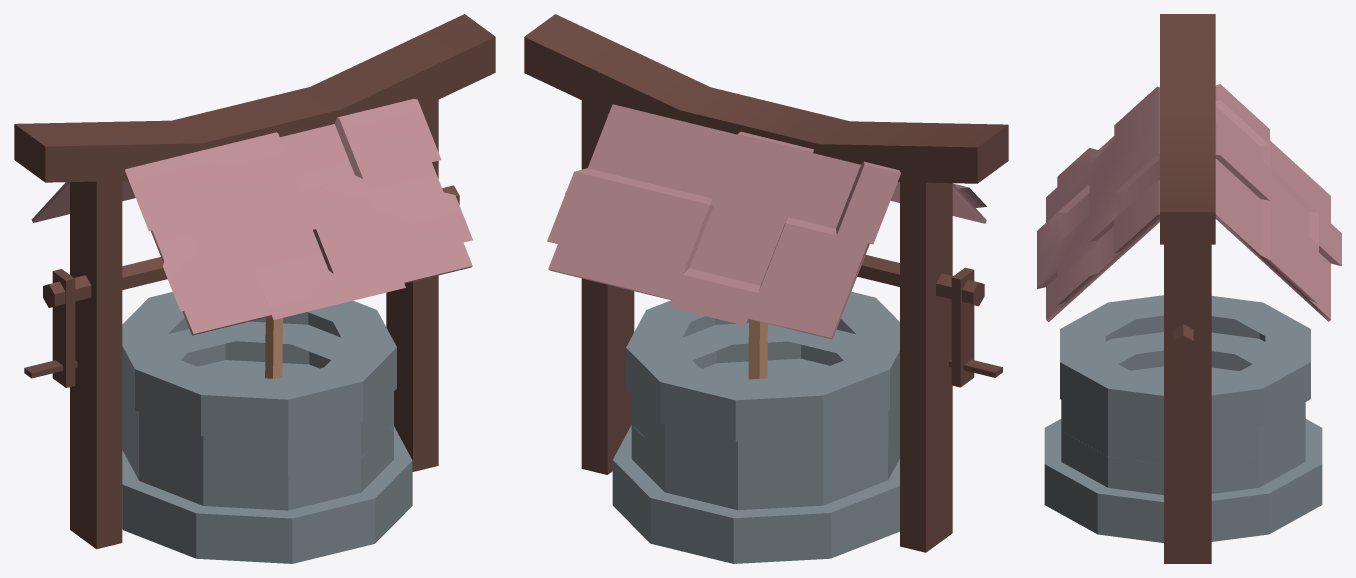
The model's file is water_well 1.fbx.
The picture shows the model from 3 angles, left to right: view 1: azimuth 30°, elevation 25°; view 2: azimuth 150°, elevation 25°; view 3: azimuth 270°, elevation 25°; orthographic projection. The views are drawn at different scales.
Visible parts, largest first — view 1: pCube61, pCube57, pCylinder6, pCube55, pCylinder3, pCylinder7, pCylinder4, pCube56, pCylinder8, pCylinder14, pCube58, pCylinder13 (+1 smaller); view 2: pCube60, pCube57, pCylinder6, pCube55, pCylinder3, pCylinder7, pCylinder4, pCube56, pCylinder8, pCube58, pCylinder14, pCylinder13 (+1 smaller); view 3: pCylinder6, pCube61, pCube60, pCube56, pCylinder3, pCube57, pCylinder7, pCylinder4, pCylinder13, pCylinder14, pCylinder8.
Boxes of the visible parts, box(x1,y1,x2,y2) form: pCube61: box(125, 98, 472, 335); pCube57: box(14, 14, 495, 182); pCylinder6: box(122, 292, 396, 440); pCube55: box(70, 181, 122, 549); pCylinder3: box(122, 426, 412, 563); pCylinder7: box(122, 321, 393, 476); pCylinder4: box(122, 360, 393, 510); pCube56: box(386, 100, 438, 471); pCylinder8: box(43, 185, 459, 378); pCylinder14: box(179, 339, 332, 368); pCube58: box(52, 269, 75, 387); pCylinder13: box(162, 310, 349, 379); pCube60: box(547, 104, 900, 339); pCube57: box(524, 14, 1008, 183); pCylinder6: box(626, 291, 899, 441); pCube55: box(900, 182, 952, 552); pCylinder3: box(612, 425, 899, 563); pCylinder7: box(631, 323, 899, 476); pCylinder4: box(631, 358, 899, 510); pCube56: box(581, 100, 634, 474); pCylinder8: box(565, 191, 984, 379); pCube58: box(951, 267, 974, 387); pCylinder14: box(690, 338, 846, 368); pCylinder13: box(673, 314, 862, 379); pCylinder6: box(1060, 295, 1310, 432); pCube61: box(1037, 86, 1159, 322); pCube60: box(1215, 84, 1341, 321); pCube56: box(1164, 244, 1211, 563); pCylinder3: box(1044, 419, 1322, 542); pCube57: box(1160, 14, 1215, 244); pCylinder7: box(1061, 332, 1305, 463); pCylinder4: box(1061, 366, 1305, 494); pCylinder13: box(1102, 313, 1269, 378); pCylinder14: box(1115, 347, 1253, 370); pCylinder8: box(1173, 324, 1193, 356).
Bounding box in the file's own units: 10.93 × 9.59 × 7.05.
